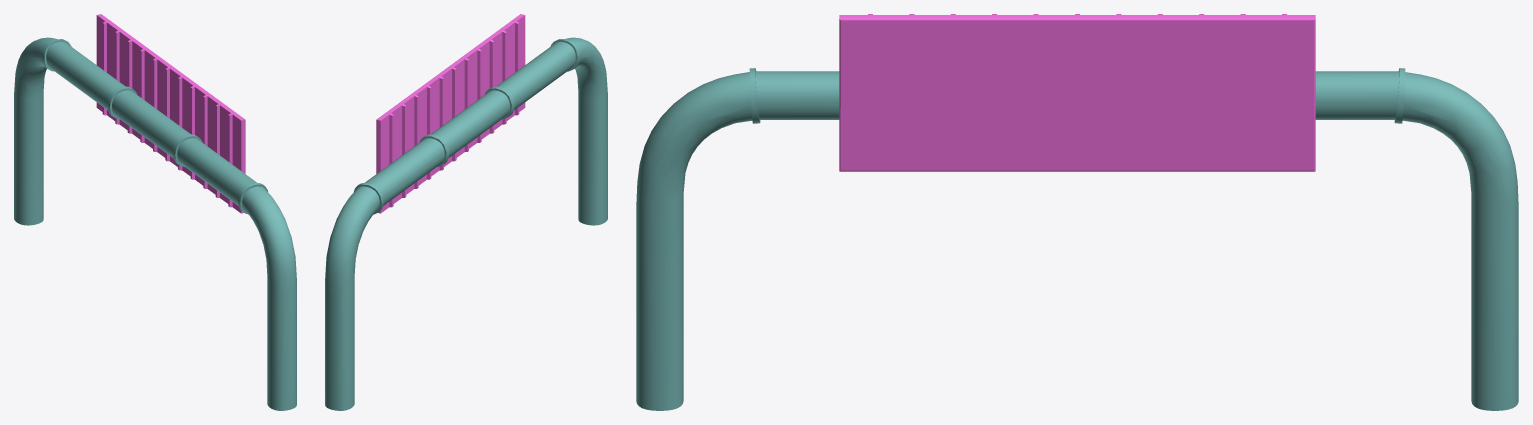
File: Prop_11.fbx
3 renders of one model, left to right at view 1: azimuth 30°, elevation 25°; view 2: azimuth 150°, elevation 25°; view 3: azimuth 270°, elevation 25°, orthographic. The views are drawn at different scales.
Parts seen in each view (by area): view 1: Prop_11; view 2: Prop_11; view 3: Prop_11.
Part boxes in pixels (x1,y1,x2,y2): Prop_11: [14, 14, 296, 410]; Prop_11: [325, 14, 607, 410]; Prop_11: [636, 14, 1518, 410].
Size of the model in its own units: 41.37 by 291 by 587.
